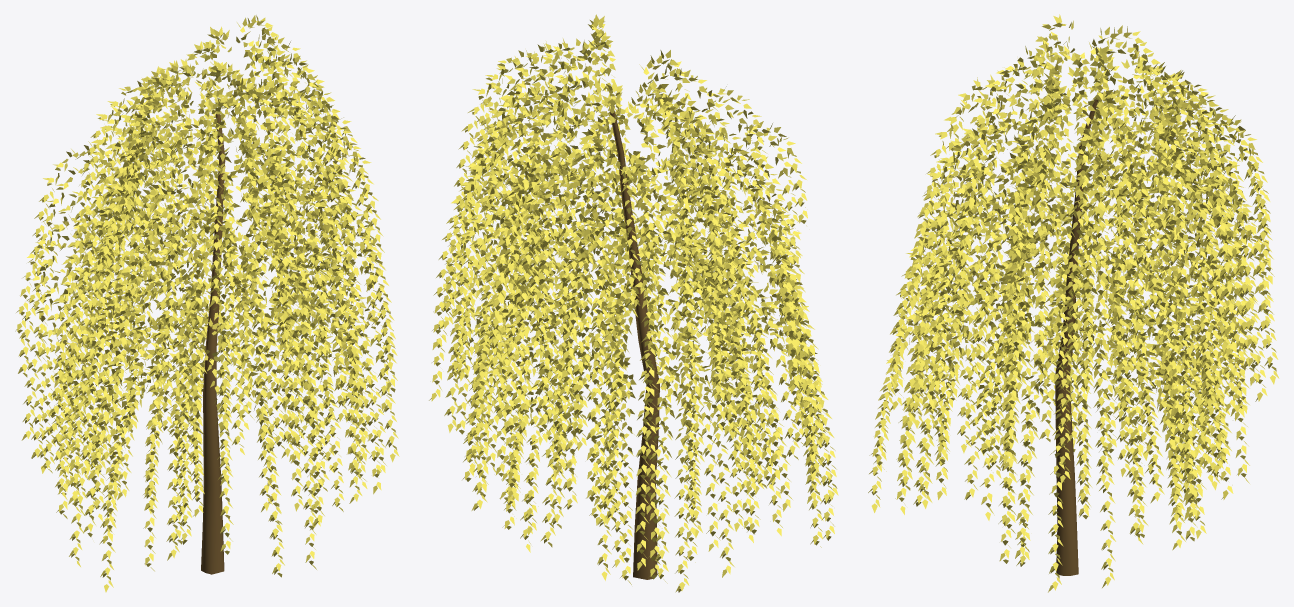
File: Baum 5.FBX
3 views of the same model, side by side, from view 1: azimuth 30°, elevation 25°; view 2: azimuth 150°, elevation 25°; view 3: azimuth 270°, elevation 25° (orthographic). The views are drawn at different scales.
Visible parts, largest first — view 1: Foliage005; view 2: Foliage005; view 3: Foliage005.
Boxes of the visible parts, x1,y1,x2,y2 form: Foliage005: (15, 15, 399, 592); Foliage005: (429, 14, 838, 592); Foliage005: (868, 14, 1279, 592).
Size of the model in its own units: 742 by 1106 by 748.
